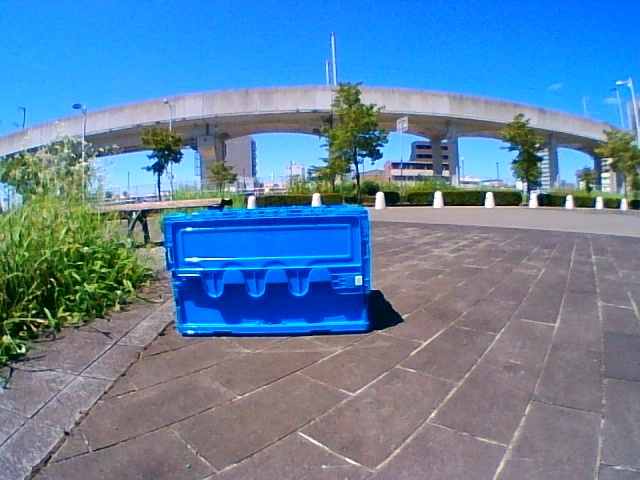blue_box: (178, 212, 370, 332)
